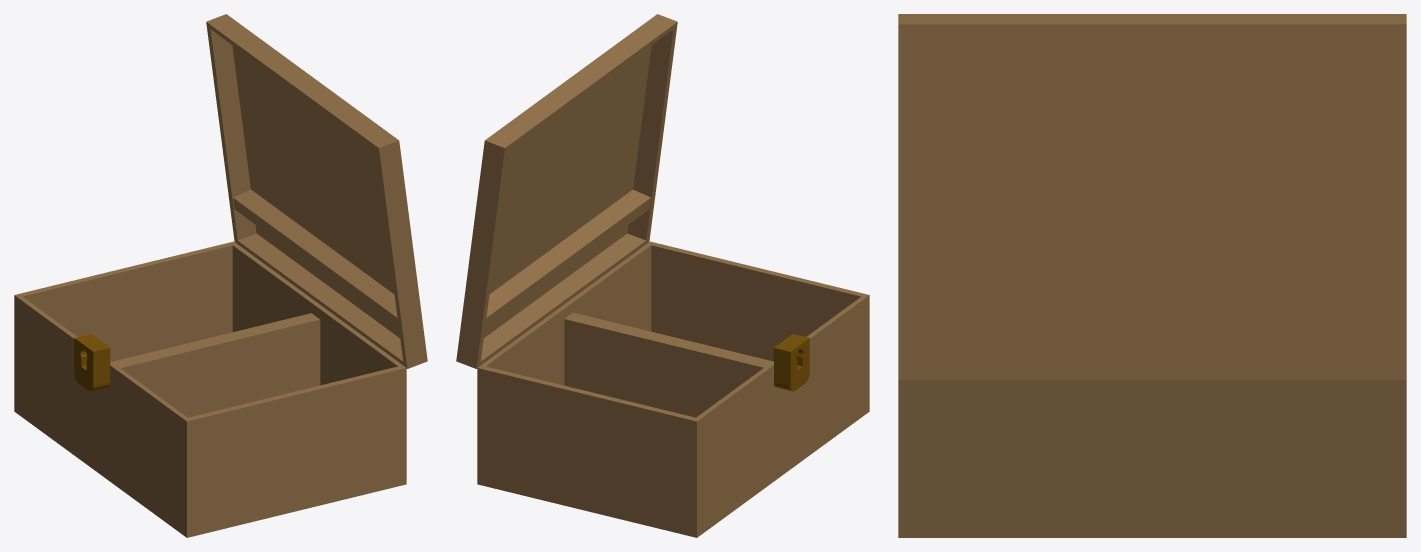
File: MedicineBox.fbx
The picture shows the model from 3 angles, left to right: view 1: azimuth 30°, elevation 25°; view 2: azimuth 150°, elevation 25°; view 3: azimuth 270°, elevation 25°; orthographic projection. The views are drawn at different scales.
Visible parts, largest first — view 1: Box, Lid, BottomDivider, LidShelf, Lock; view 2: Box, Lid, BottomDivider, LidShelf, Lock; view 3: Lid, Box.
Part boxes in pixels (x1,y1,x2,y2): Box: (14, 241, 406, 537); Lid: (206, 14, 427, 368); BottomDivider: (112, 313, 320, 417); LidShelf: (233, 189, 398, 329); Lock: (74, 334, 110, 391); Box: (477, 241, 869, 537); Lid: (456, 14, 677, 368); BottomDivider: (564, 312, 772, 417); LidShelf: (485, 189, 650, 329); Lock: (773, 334, 809, 391); Lid: (898, 14, 1406, 379); Box: (898, 380, 1406, 537).
Size of the model in its own units: 694 by 891 by 807.
